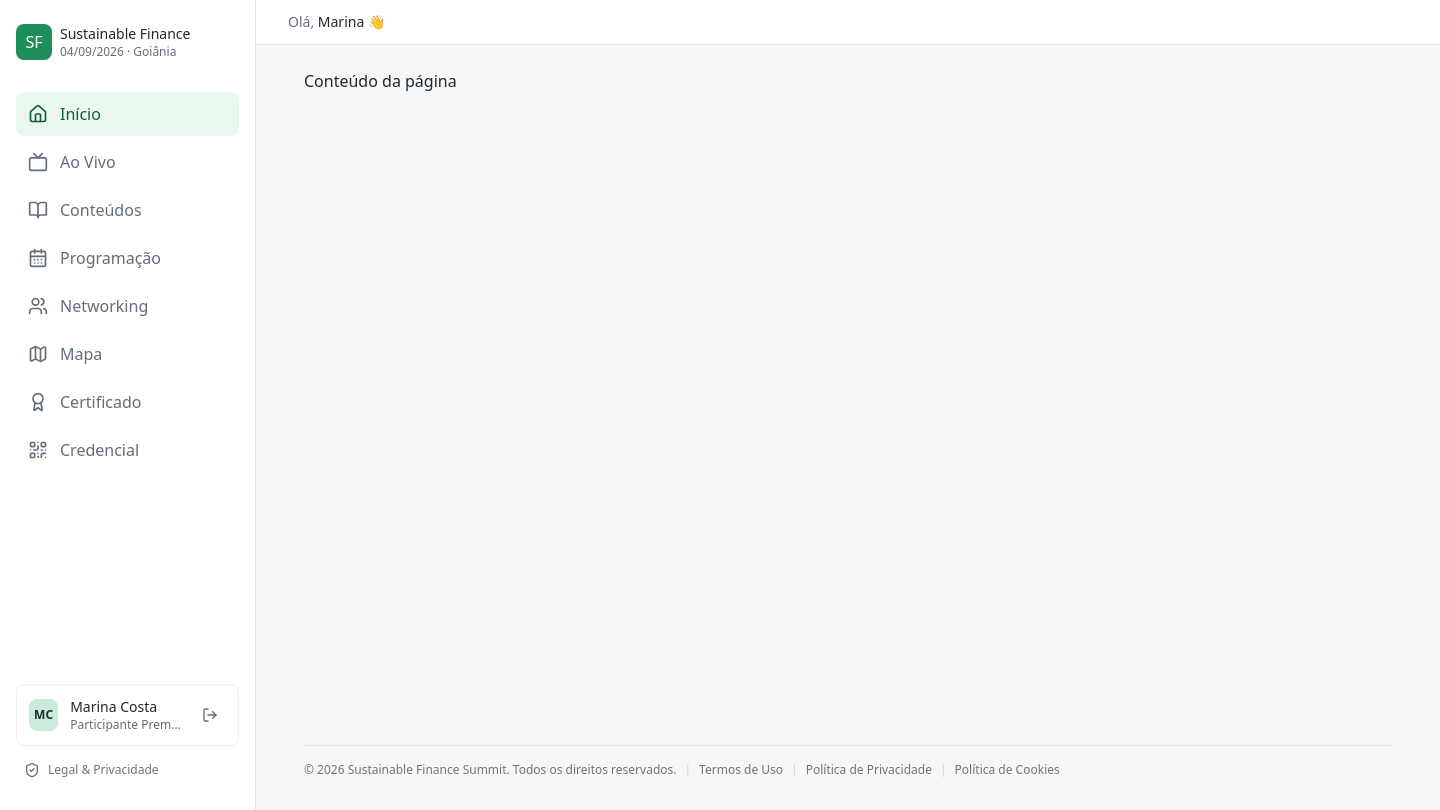
documentos legais › o rodapé abre cada documento
Click the button "Termos de Uso": (741, 770) [699,762,783,778]
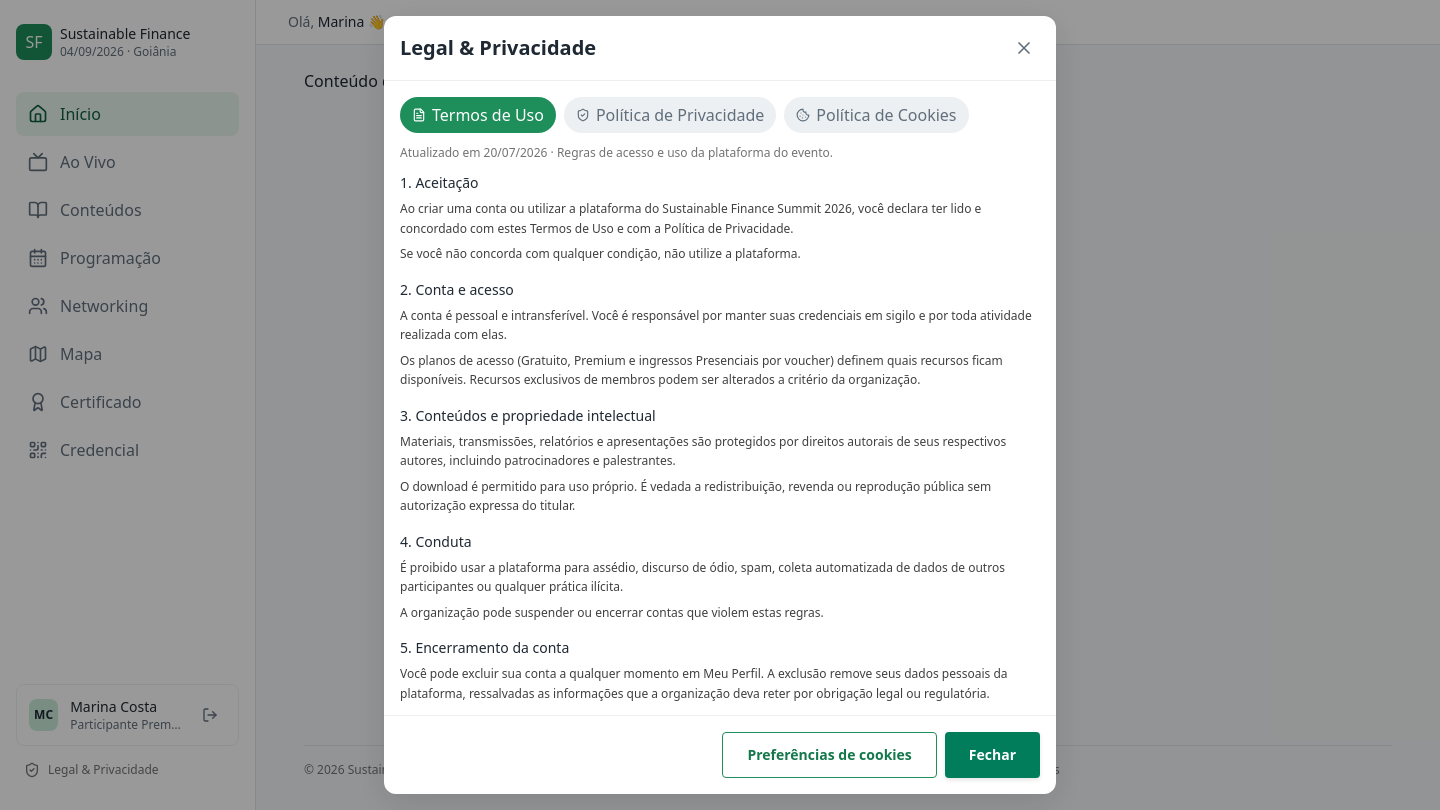
Result: the dialog "Legal & Privacidade" is shown at [384,16,1056,794]
